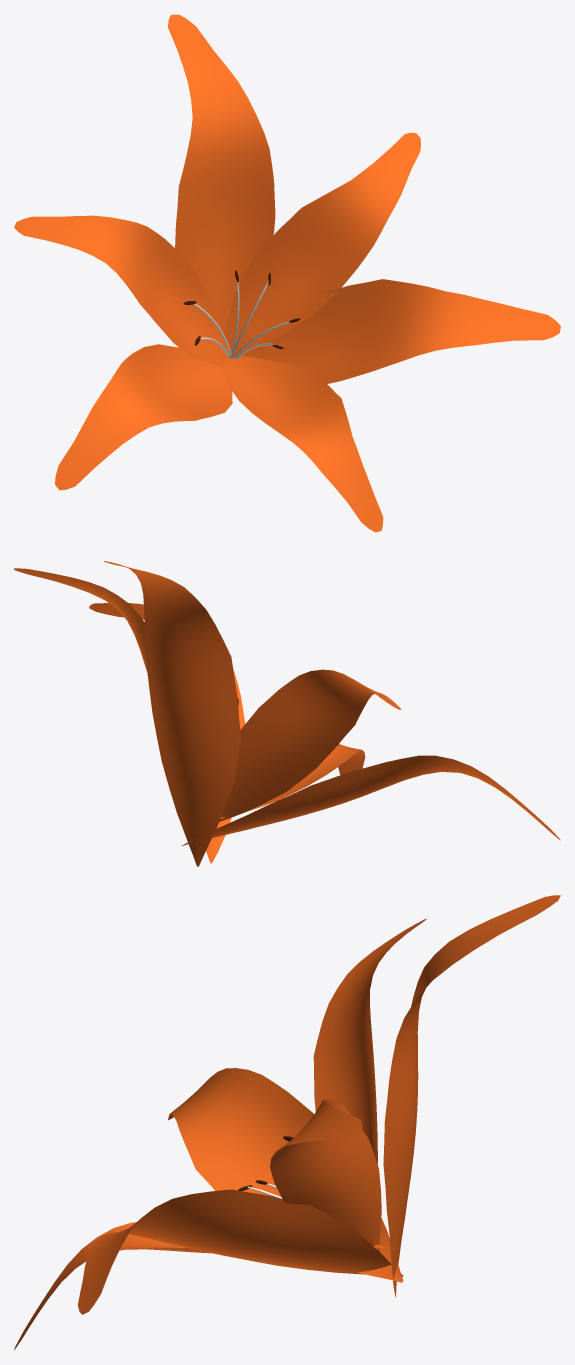
File: flower_red.glb
3 renders of one model, top to bottom at view 1: azimuth 30°, elevation 25°; view 2: azimuth 150°, elevation 25°; view 3: azimuth 270°, elevation 25°, orthographic. The views are drawn at different scales.
Visible parts, largest first — view 1: petals 1, pistils 3; view 2: petals 1; view 3: petals 1.
Part boxes in pixels (x1,y1,x2,y2): petals 1: (14,14,560,532); pistils 3: (183,270,300,359); petals 1: (14,561,560,866); petals 1: (14,895,560,1350).
Bounding box in the file's own units: 2.27 × 1.66 × 1.79.
